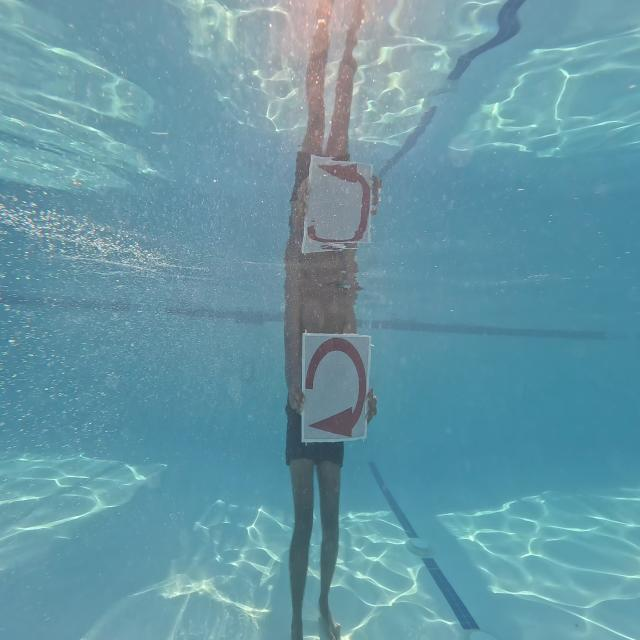red_side: (294, 328, 376, 442)
